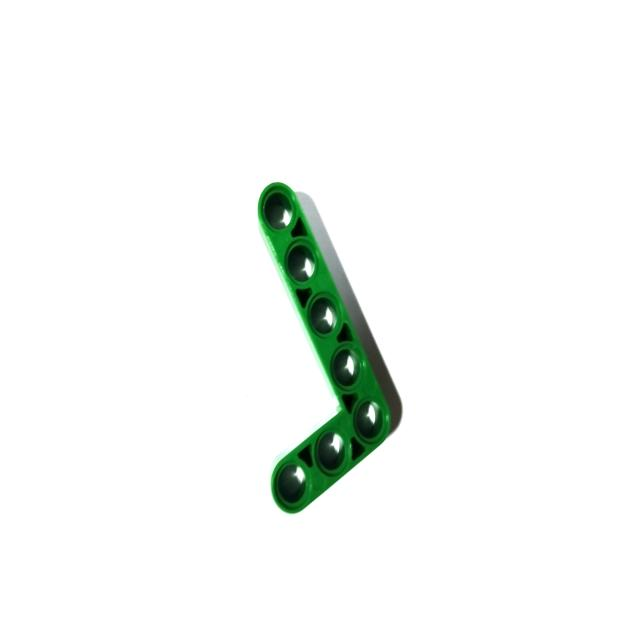Green_Large: (255, 181, 393, 514)
